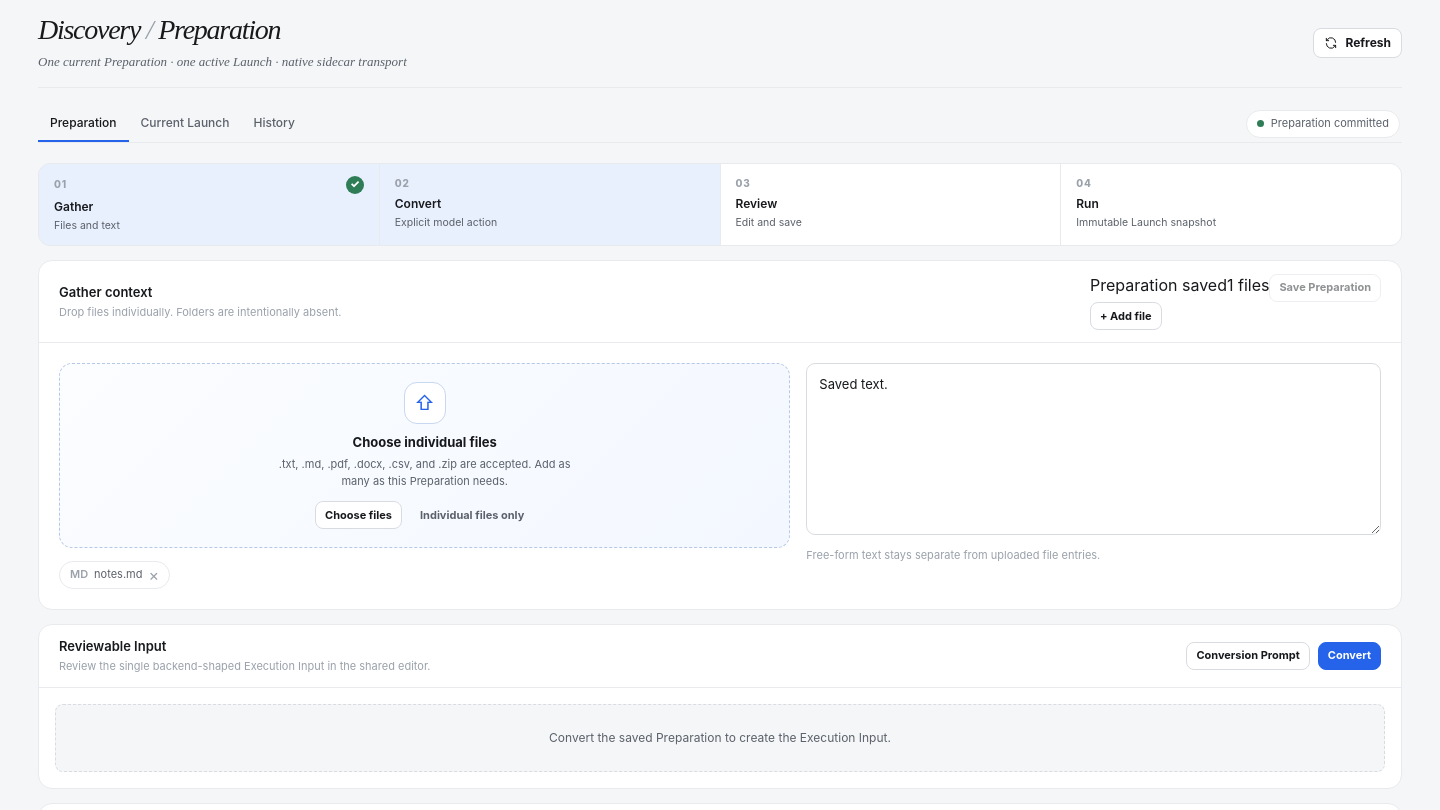
Test: deletes one draft Source Entry without changing the saved state
The image size is (1440, 810).
Expected: the text "notes.md" is shown, [94, 566, 142, 583]
Click the button named "Remove notes.md". click: (154, 575)
box: [148, 567, 159, 583]
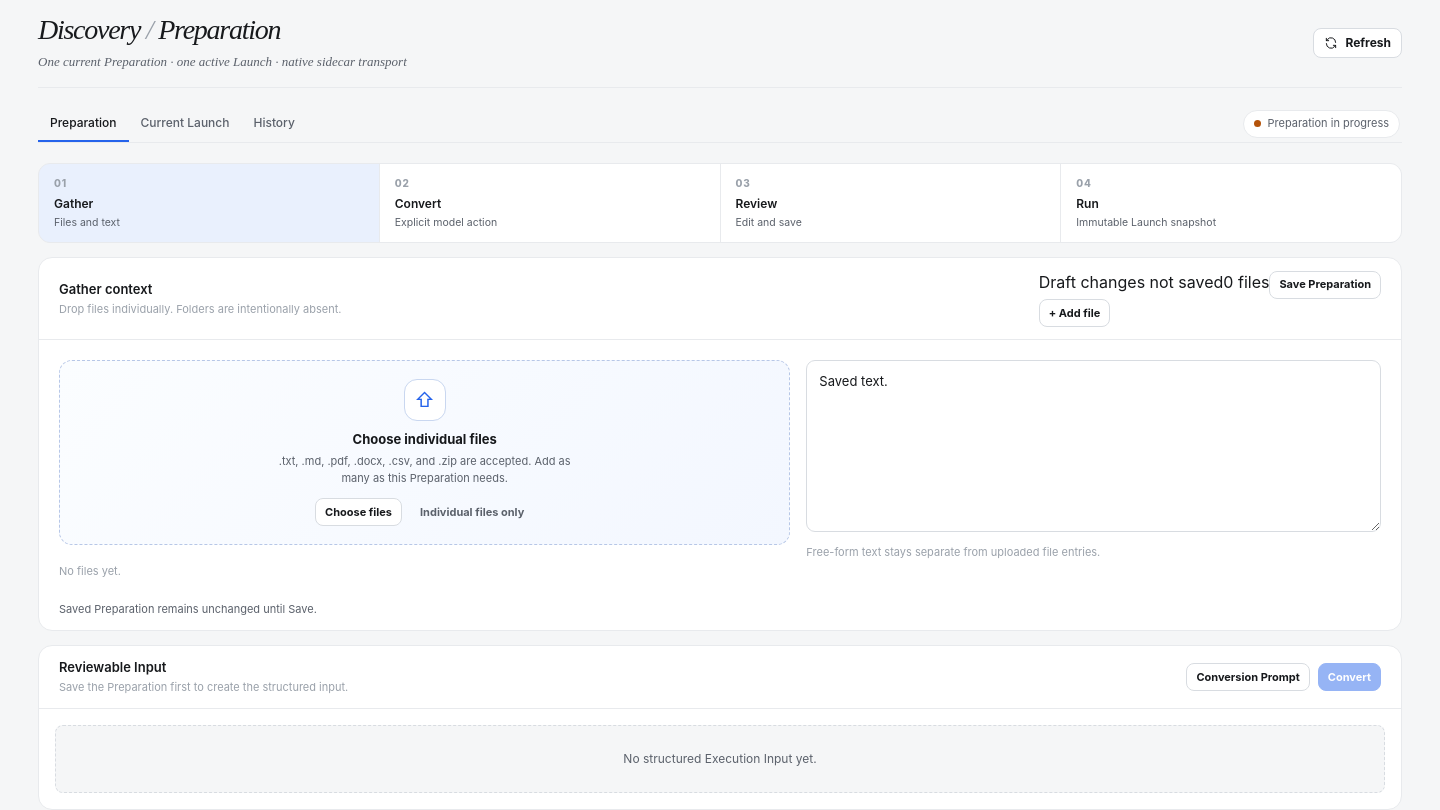
Result: the text "notes.md" is gone
Result: the text "Saved Preparation remains unchanged until Save." is shown at [59, 602, 317, 616]
